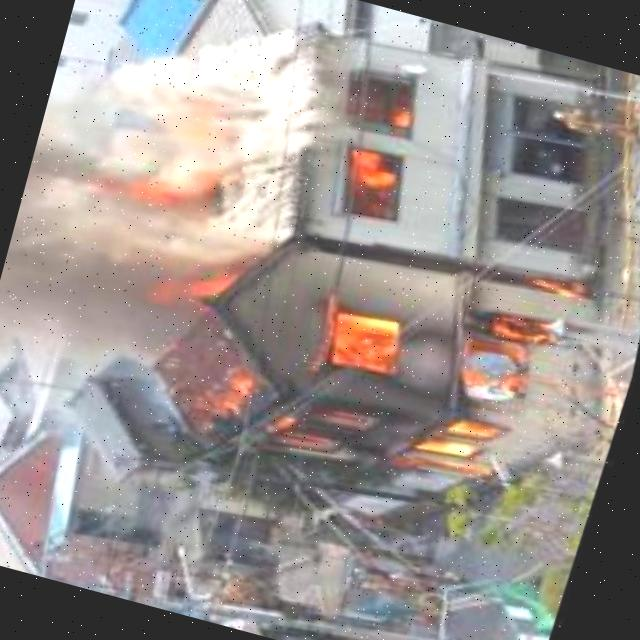fire: (153, 221, 575, 523), (324, 69, 437, 230), (115, 154, 209, 229)
